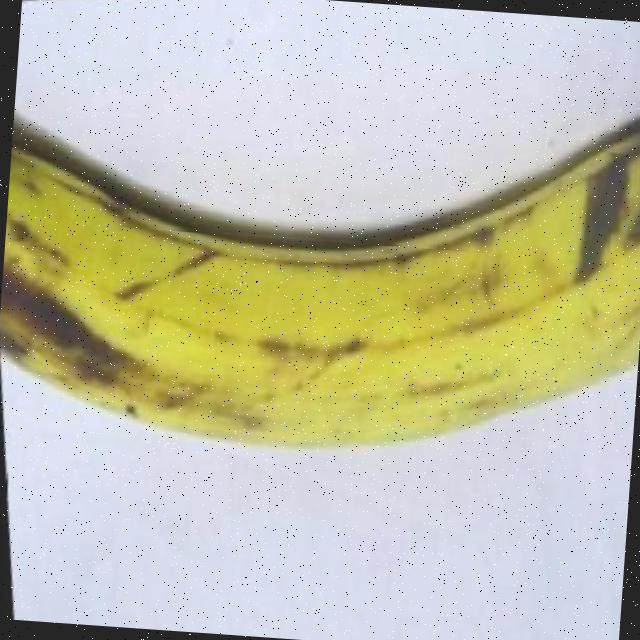Overripe: (0, 9, 640, 504)
